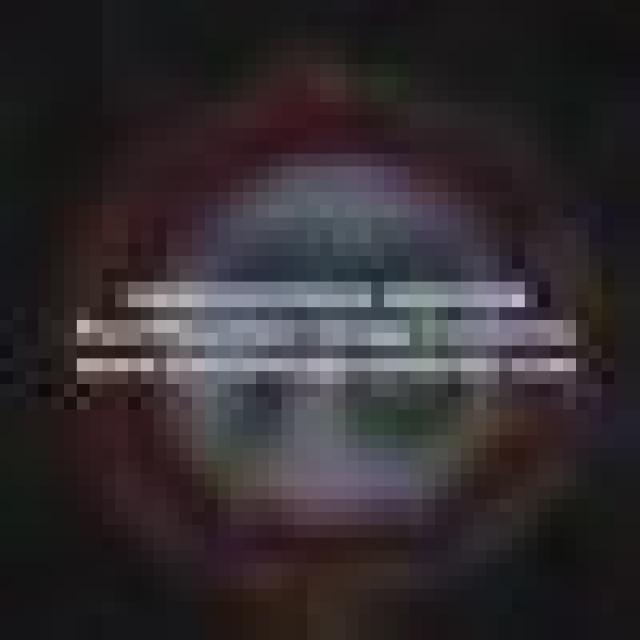SPEED_LIMIT_70: (51, 89, 589, 602)
